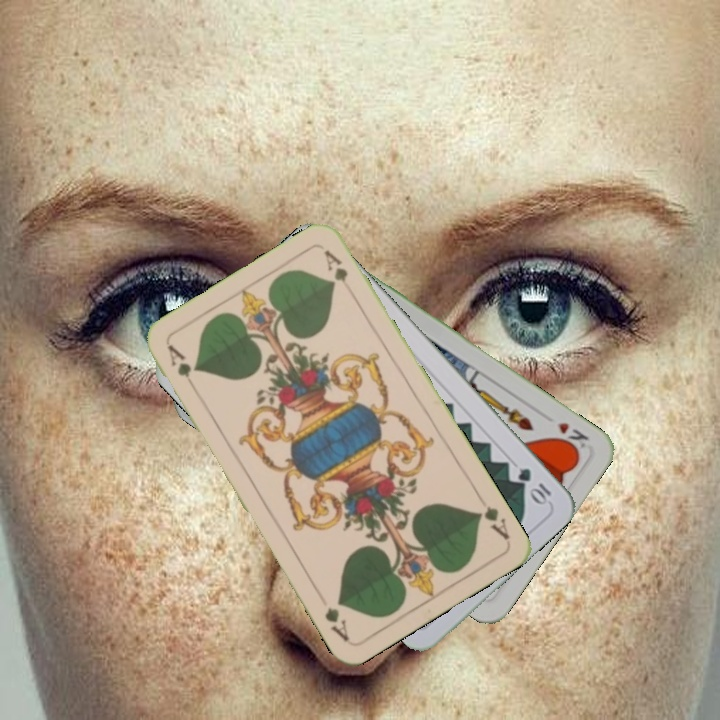G10: (513, 463, 554, 507)
GA: (163, 340, 200, 395), (472, 501, 512, 543)
HK: (552, 418, 592, 455)
